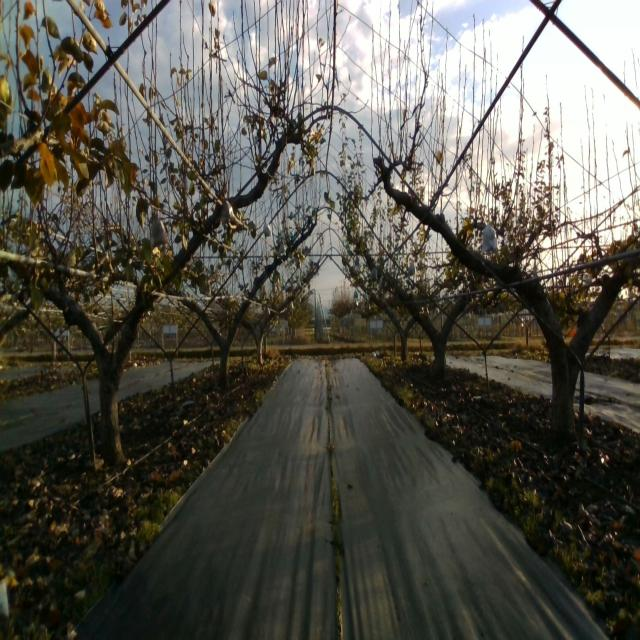pearbags: (150, 210, 169, 250), (480, 220, 497, 253), (220, 199, 237, 227)
